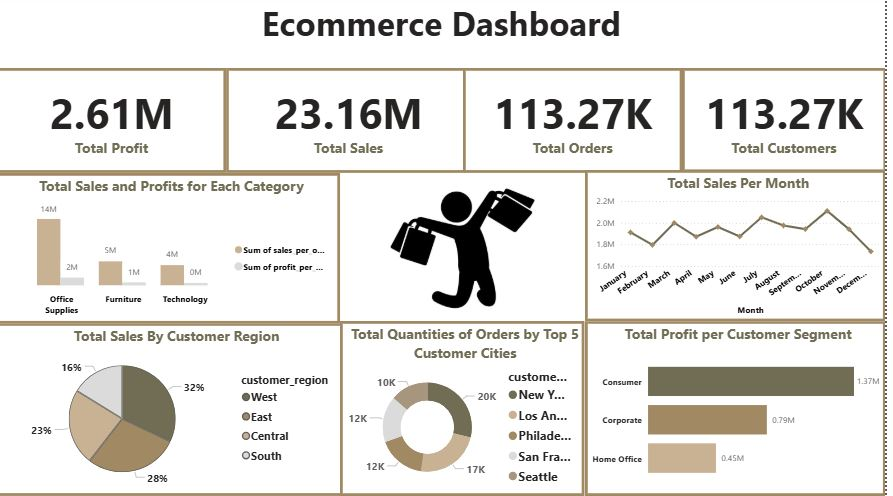

Layout of this report page (visuals, bound fields, positions):
{"tool":"powerbi","page":{"name":"Dashboard","canvas":[1280,720],"ordinal":0},"visuals":[{"type":"textbox","box":[0,0,1280,103],"z":0},{"type":"card","fields":{"Values":["Sum(Ecommerce After cleaning.sales_per_order)"]},"box":[329.8,103.7,352.8,151.2],"z":1000},{"type":"card","fields":{"Values":["Sum(Ecommerce After cleaning.profit_per_order)"]},"box":[0,103,330,150.7],"z":2000},{"type":"card","fields":{"Values":["CountNonNull(Ecommerce After cleaning.order_id)"]},"box":[671.3,103.7,315.8,151],"z":3000},{"type":"card","fields":{"Values":["CountNonNull(Ecommerce After cleaning.customer_id)"]},"box":[986.4,103.7,293.8,149.8],"z":4000},{"type":"clusteredBarChart","title":"Total Profit per Customer Segment","fields":{"Category":["Ecommerce After cleaning.customer_segment"],"Y":["Sum(Ecommerce After cleaning.profit_per_order)"]},"box":[846.7,468.4,433.3,251.7],"z":5000},{"type":"pieChart","title":"Total Sales By Customer Region","fields":{"Category":["Ecommerce After cleaning.customer_region"],"Y":["Sum(Ecommerce After cleaning.sales_per_order)"]},"box":[0,471.4,509.6,248.7],"z":6000},{"type":"donutChart","title":"Total Quantities of Orders by Top 5 Customer Cities","fields":{"Category":["Ecommerce After cleaning.customer_city"],"Y":["Sum(Ecommerce After cleaning.order_quantity)"]},"box":[494.3,468.4,352.4,251.7],"z":7000},{"type":"lineChart","title":"Total Sales Per Month","fields":{"Y":["Sum(Ecommerce After cleaning.sales_per_order)"],"Category":["Ecommerce After cleaning.order_date.Variation.Date Hierarchy.Month"]},"box":[846.7,250.2,433.3,218.2],"z":8000},{"type":"lineClusteredColumnComboChart","title":"Total Sales and Profits for Each Category","fields":{"Y":["Sum(Ecommerce After cleaning.sales_per_order)","Sum(Ecommerce After cleaning.profit_per_order)"],"Category":["Ecommerce After cleaning.category_name"]},"box":[0,254.8,494.3,216.6],"z":9000},{"type":"image","box":[494.3,254.8,352.4,216.6],"z":9001}]}

Visuals, with their boxes in screenshot pixels (x1, y1, x2, y2), scaled from the page's 1280x720 canvas onto the 893x496 screenshot:
textbox: 0, 0, 892, 71
card - Sum(Ecommerce After cleaning.sales_per_order): 230, 71, 476, 176
card - Sum(Ecommerce After cleaning.profit_per_order): 0, 71, 230, 175
card - CountNonNull(Ecommerce After cleaning.order_id): 468, 71, 689, 175
card - CountNonNull(Ecommerce After cleaning.customer_id): 688, 71, 892, 175
"Total Profit per Customer Segment" clusteredBarChart: 591, 323, 892, 495
"Total Sales By Customer Region" pieChart: 0, 325, 356, 495
"Total Quantities of Orders by Top 5 Customer Cities" donutChart: 345, 323, 591, 495
"Total Sales Per Month" lineChart: 591, 172, 892, 323
"Total Sales and Profits for Each Category" lineClusteredColumnComboChart: 0, 176, 345, 325
image: 345, 176, 591, 325
